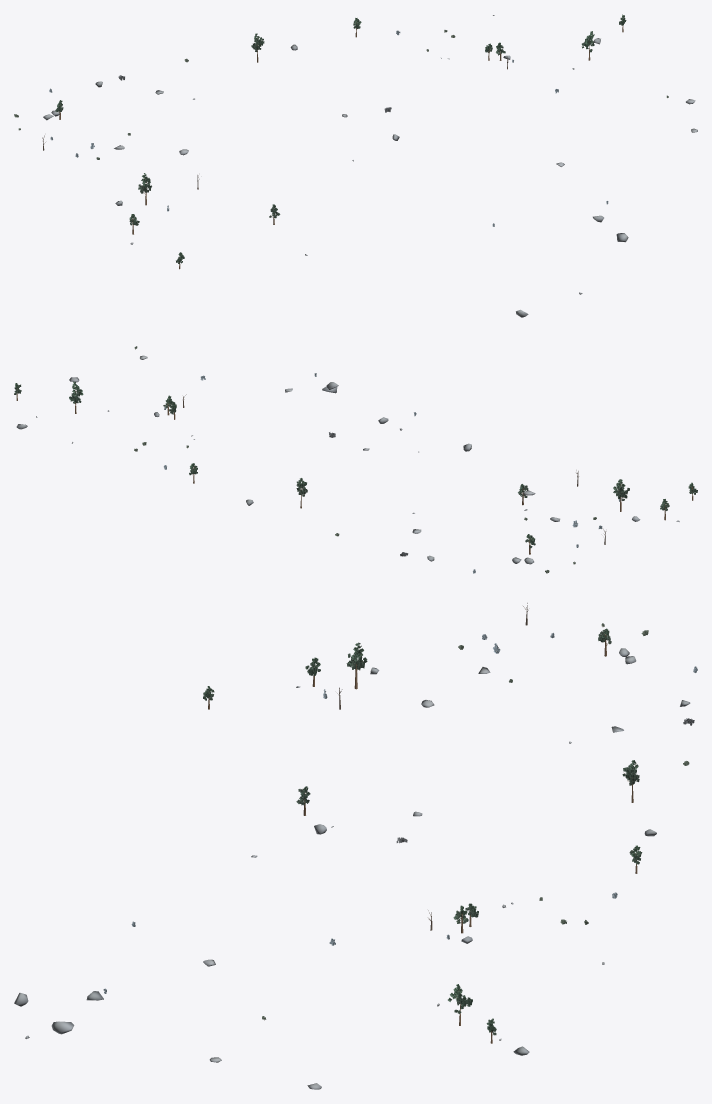
Rendered from frost_land_scatter_c19_13.glb.
The picture shows the model from 3 angles, top to bottom: view 1: azimuth 30°, elevation 25°; view 2: azimuth 150°, elevation 25°; view 3: azimuth 270°, elevation 25°; orthographic projection. The views are drawn at different scales.
Visible parts, largest first — view 1: frost_land_scatter_c19_13; view 2: frost_land_scatter_c19_13; view 3: frost_land_scatter_c19_13.
Part boxes in pixels (<box>): frost_land_scatter_c19_13: <box>14,14,697,317</box>; frost_land_scatter_c19_13: <box>14,346,697,573</box>; frost_land_scatter_c19_13: <box>14,603,697,1089</box>.
Bounding box in the file's own units: 250 × 58.39 × 176.
